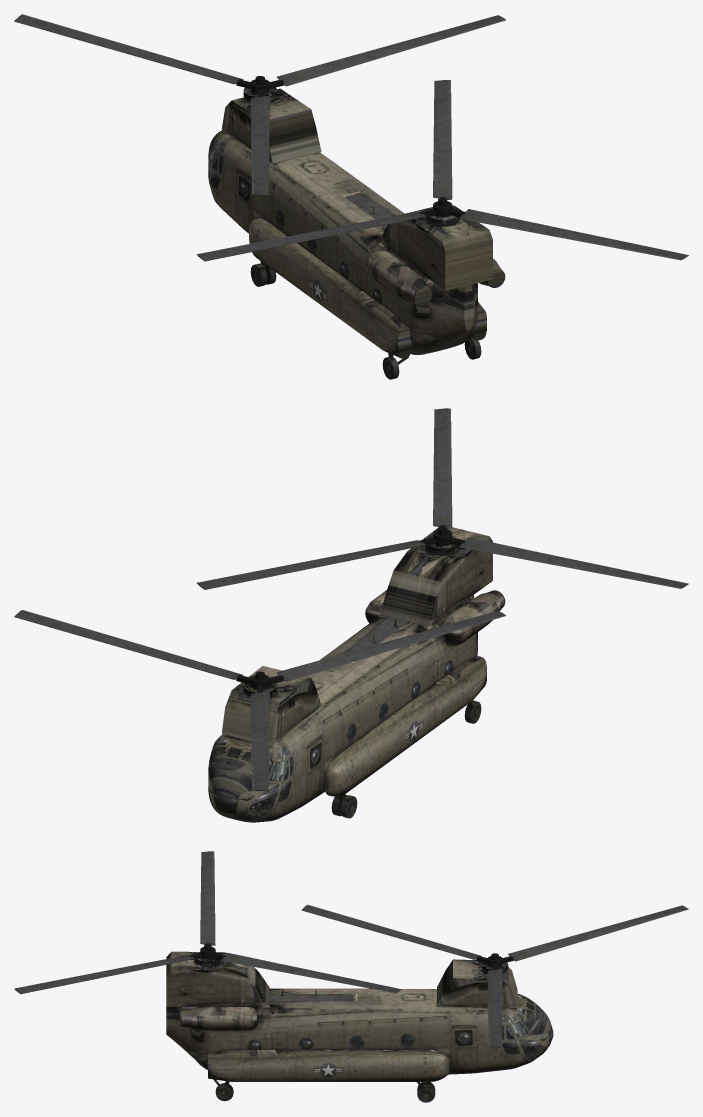
3 renders of one model, top to bottom at view 1: azimuth 30°, elevation 25°; view 2: azimuth 150°, elevation 25°; view 3: azimuth 270°, elevation 25°, orthographic. The views are drawn at different scales.
Visible parts, largest first — view 1: Body, RotorFront, RotorRear; view 2: Body, RotorFront, RotorRear; view 3: Body, RotorFront, RotorRear.
Boxes of the visible parts, box(x1,y1,x2,y2) form: Body: box(208, 87, 505, 379); RotorFront: box(14, 14, 505, 195); RotorRear: box(197, 80, 688, 261); Body: box(208, 527, 505, 822); RotorFront: box(14, 610, 506, 791); RotorRear: box(196, 408, 688, 589); Body: box(166, 951, 553, 1102); RotorFront: box(301, 905, 688, 1047); RotorRear: box(14, 851, 401, 994).
Size of the model in its own units: 18.3 by 6.43 by 28.06.
2 materials, 2 textured.
